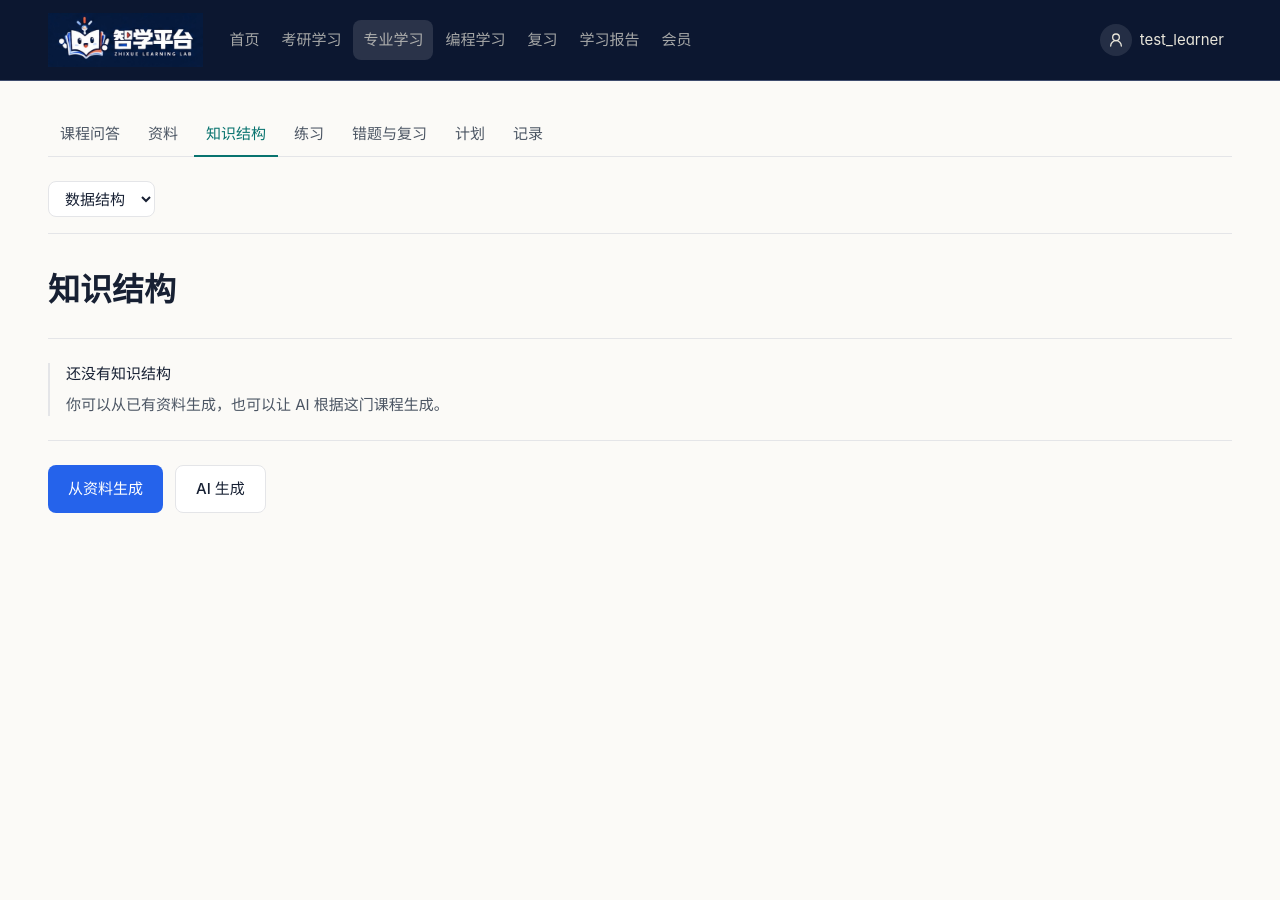
Test: an empty knowledge structure › points at uploading when the course has no material at all
Click the button "从资料生成" at (106, 489), box [48, 465, 163, 513]
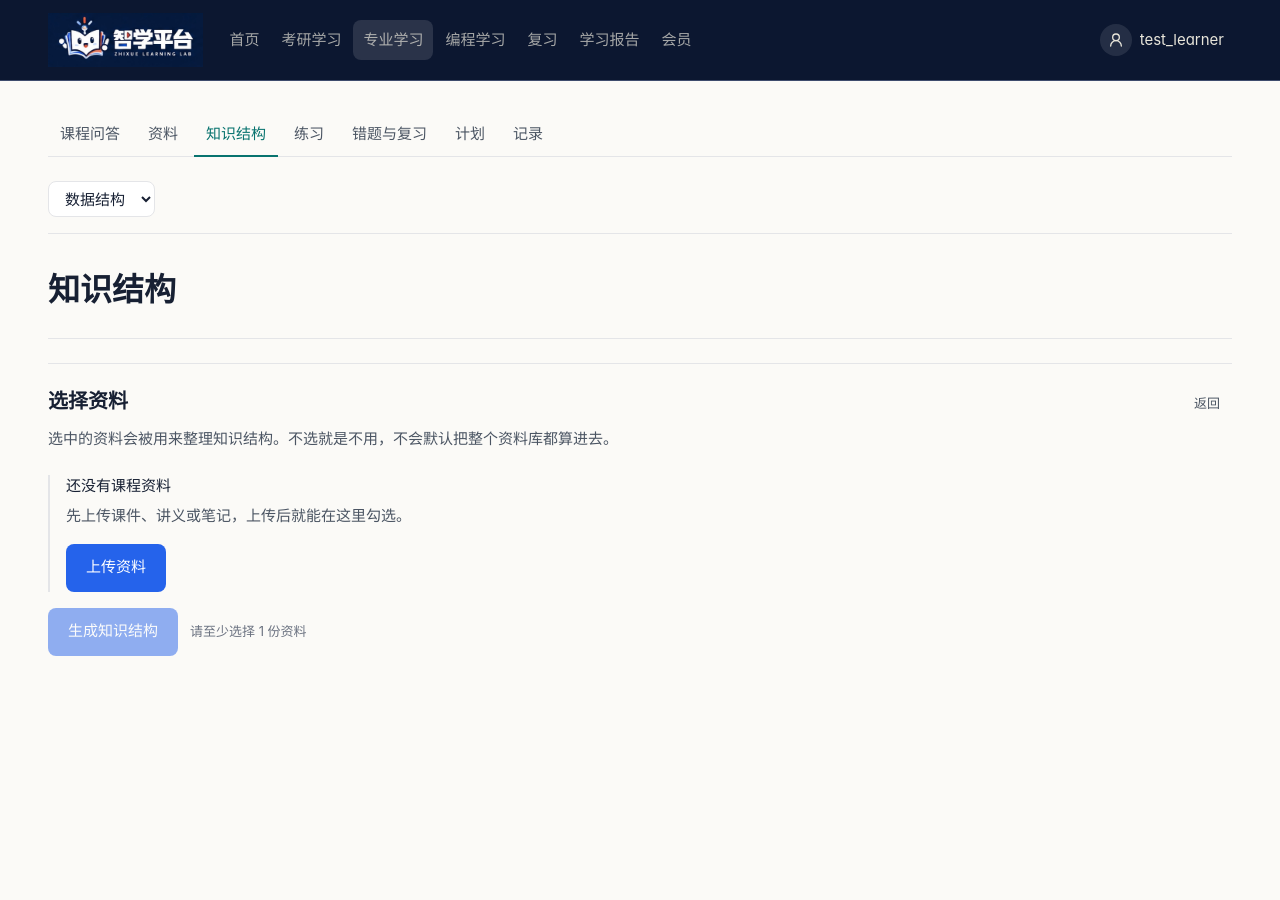
Expected: the text "还没有课程资料" is shown, [66, 476, 171, 494]
Expected: the button "上传资料" is shown, [66, 544, 166, 592]
Expected: the button "返回" is shown, [1182, 388, 1232, 420]
